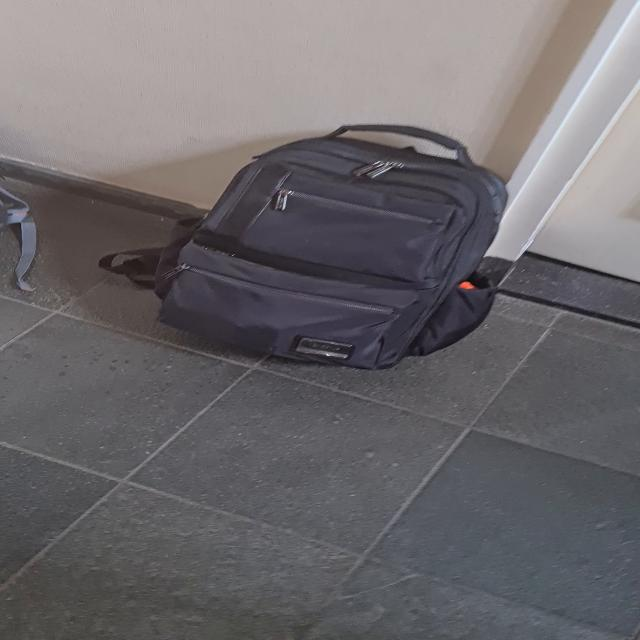backpack: (141, 116, 537, 374)
